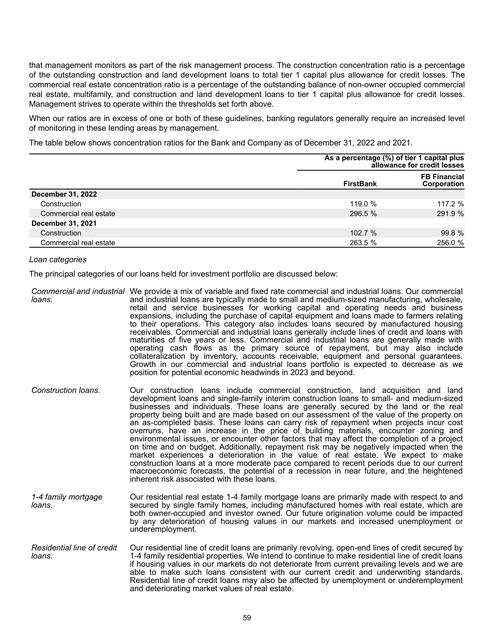box: (28, 150, 465, 250)
